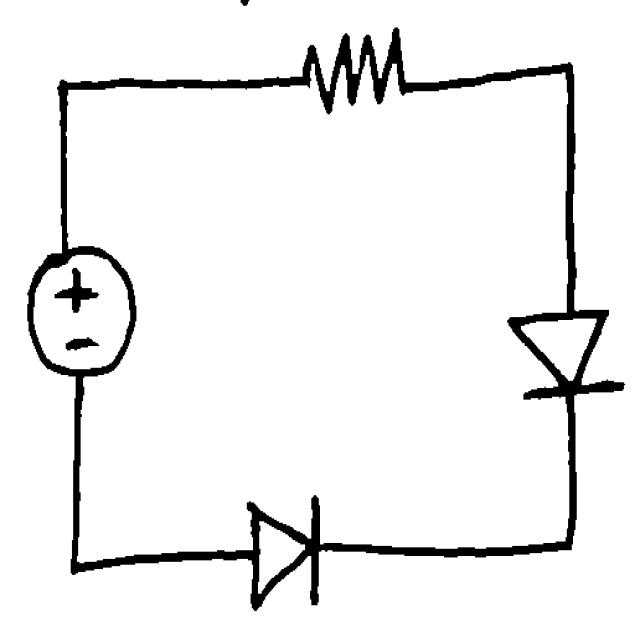dc: (16, 226, 148, 388)
diode: (492, 294, 632, 416), (234, 476, 331, 618)
resistor: (290, 15, 420, 130)
